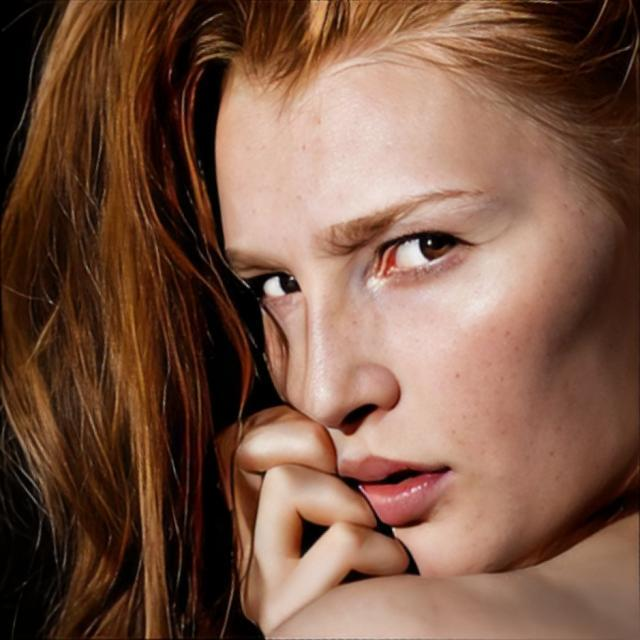anger: (210, 50, 638, 588)
